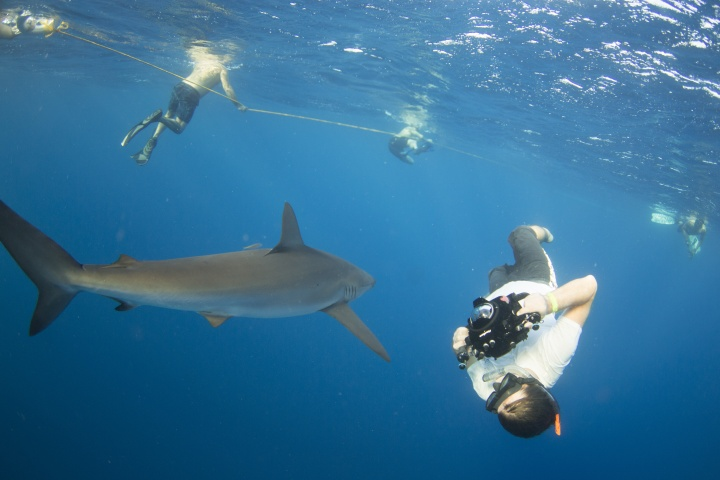Sedoso: (1, 166, 406, 376)
